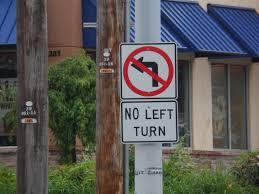no_left_turn: (122, 45, 173, 95)
